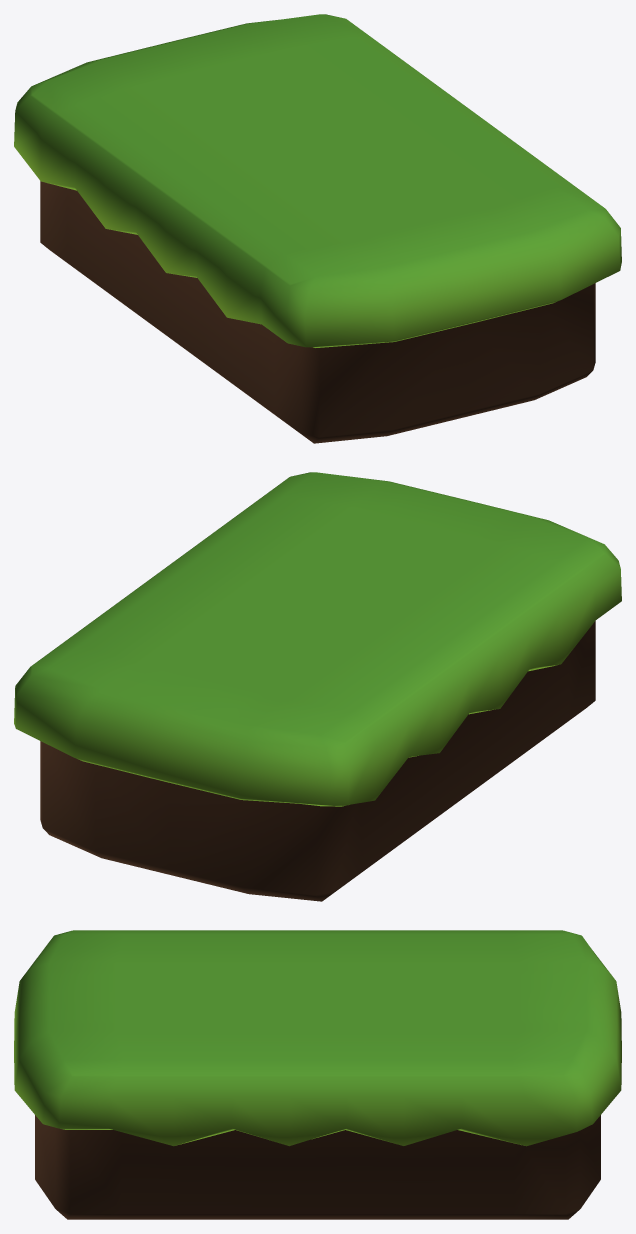
File: BasicCube.fbx
3 renders of one model, top to bottom at view 1: azimuth 30°, elevation 25°; view 2: azimuth 150°, elevation 25°; view 3: azimuth 270°, elevation 25°, orthographic. The views are drawn at different scales.
Parts seen in each view (by area): view 1: BasicCube; view 2: BasicCube; view 3: BasicCube.
Boxes of the visible parts, box(x1,y1,x2,y2) form: BasicCube: box(14, 14, 621, 443); BasicCube: box(14, 472, 621, 901); BasicCube: box(14, 930, 621, 1219).
Size of the model in its own units: 227 by 109 by 378.
